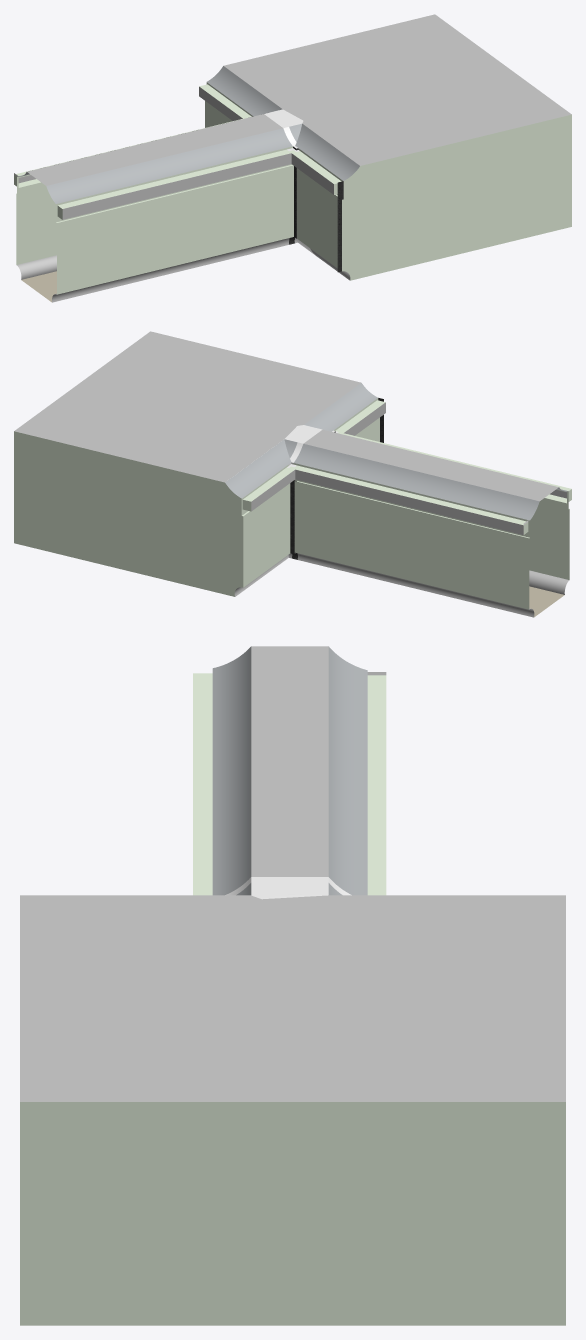
Rendered from sala.fbx.
3 renders of one model, top to bottom at view 1: azimuth 30°, elevation 25°; view 2: azimuth 150°, elevation 25°; view 3: azimuth 270°, elevation 25°, orthographic. The views are drawn at different scales.
Parts seen in each view (by area): view 1: Model; view 2: Model; view 3: Model.
Boxes of the visible parts, x1,y1,x2,y2 form: Model: (14, 14, 571, 302); Model: (14, 331, 571, 617); Model: (20, 646, 565, 1325).
Size of the model in its own units: 11.47 by 2.64 by 5.81.
